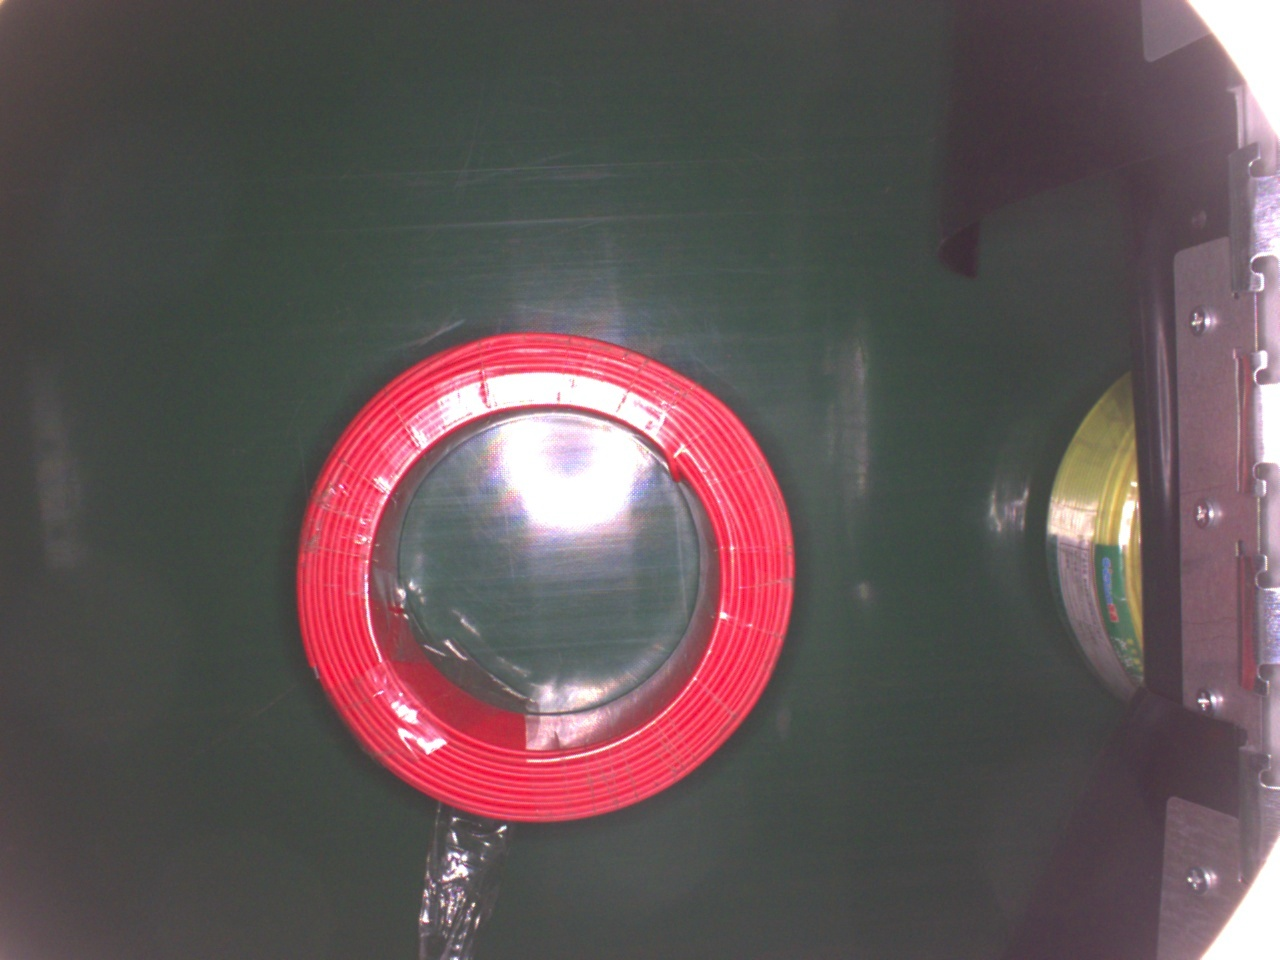red: (293, 330, 794, 826)
